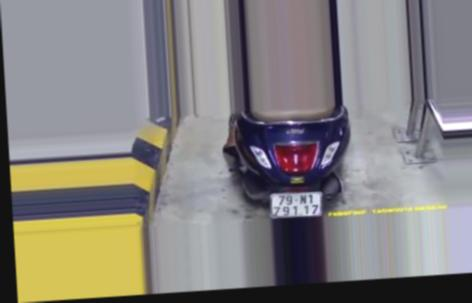License_Plate: (265, 190, 324, 220)
